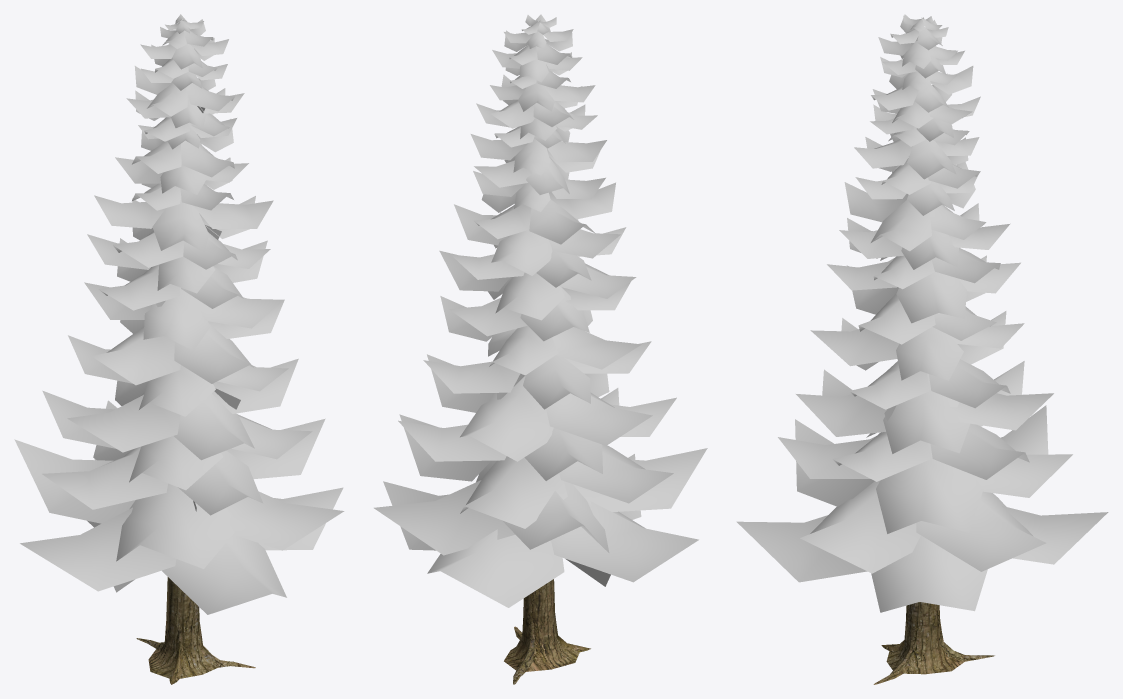
Rendered from pine_tree_b.FBX.
3 renders of one model, left to right at view 1: azimuth 30°, elevation 25°; view 2: azimuth 150°, elevation 25°; view 3: azimuth 270°, elevation 25°, orthographic.
Visible parts, largest first — view 1: pine_b; view 2: pine_b; view 3: pine_b.
Part boxes in pixels (box(x1,y1,x2,y2)): pine_b: box(14, 14, 344, 684); pine_b: box(374, 14, 707, 684); pine_b: box(736, 14, 1108, 684).
Bounding box in the file's own units: 6.06 × 6.06 × 11.55.
